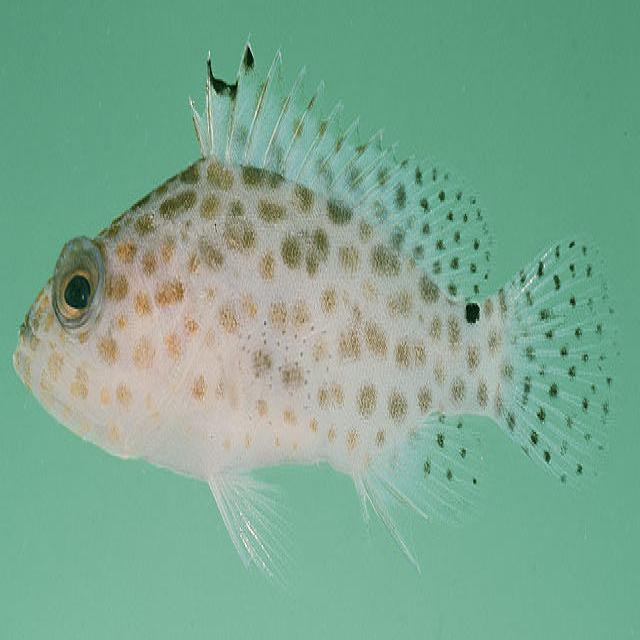ikan: (13, 33, 620, 607)
